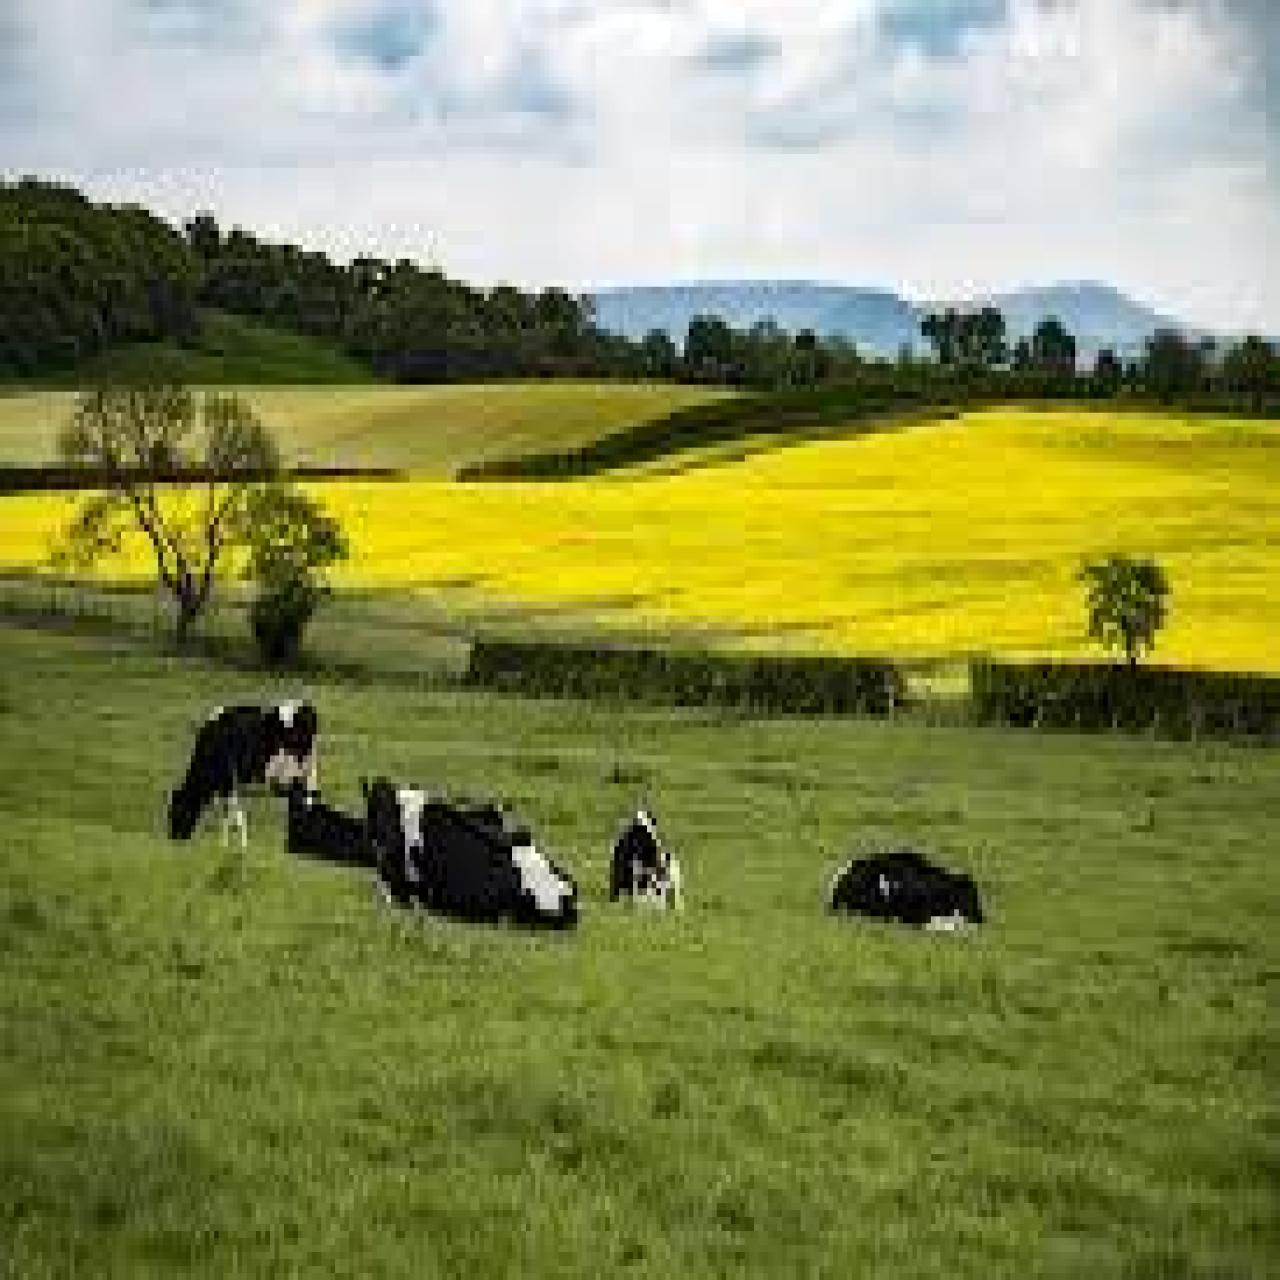cow: (356, 765, 580, 927), (161, 693, 319, 853), (824, 846, 987, 938), (605, 801, 685, 913)
